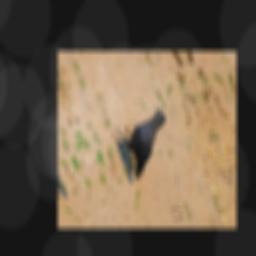Crow: (107, 106, 185, 181)
